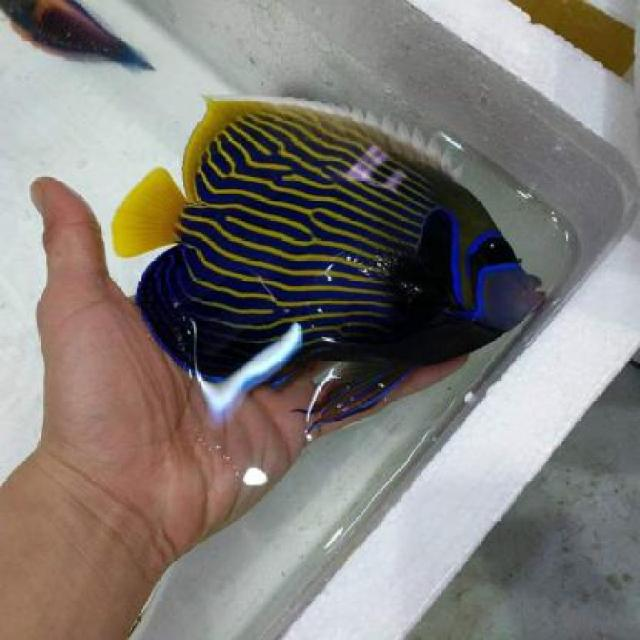AngelFish: (118, 92, 544, 430)
